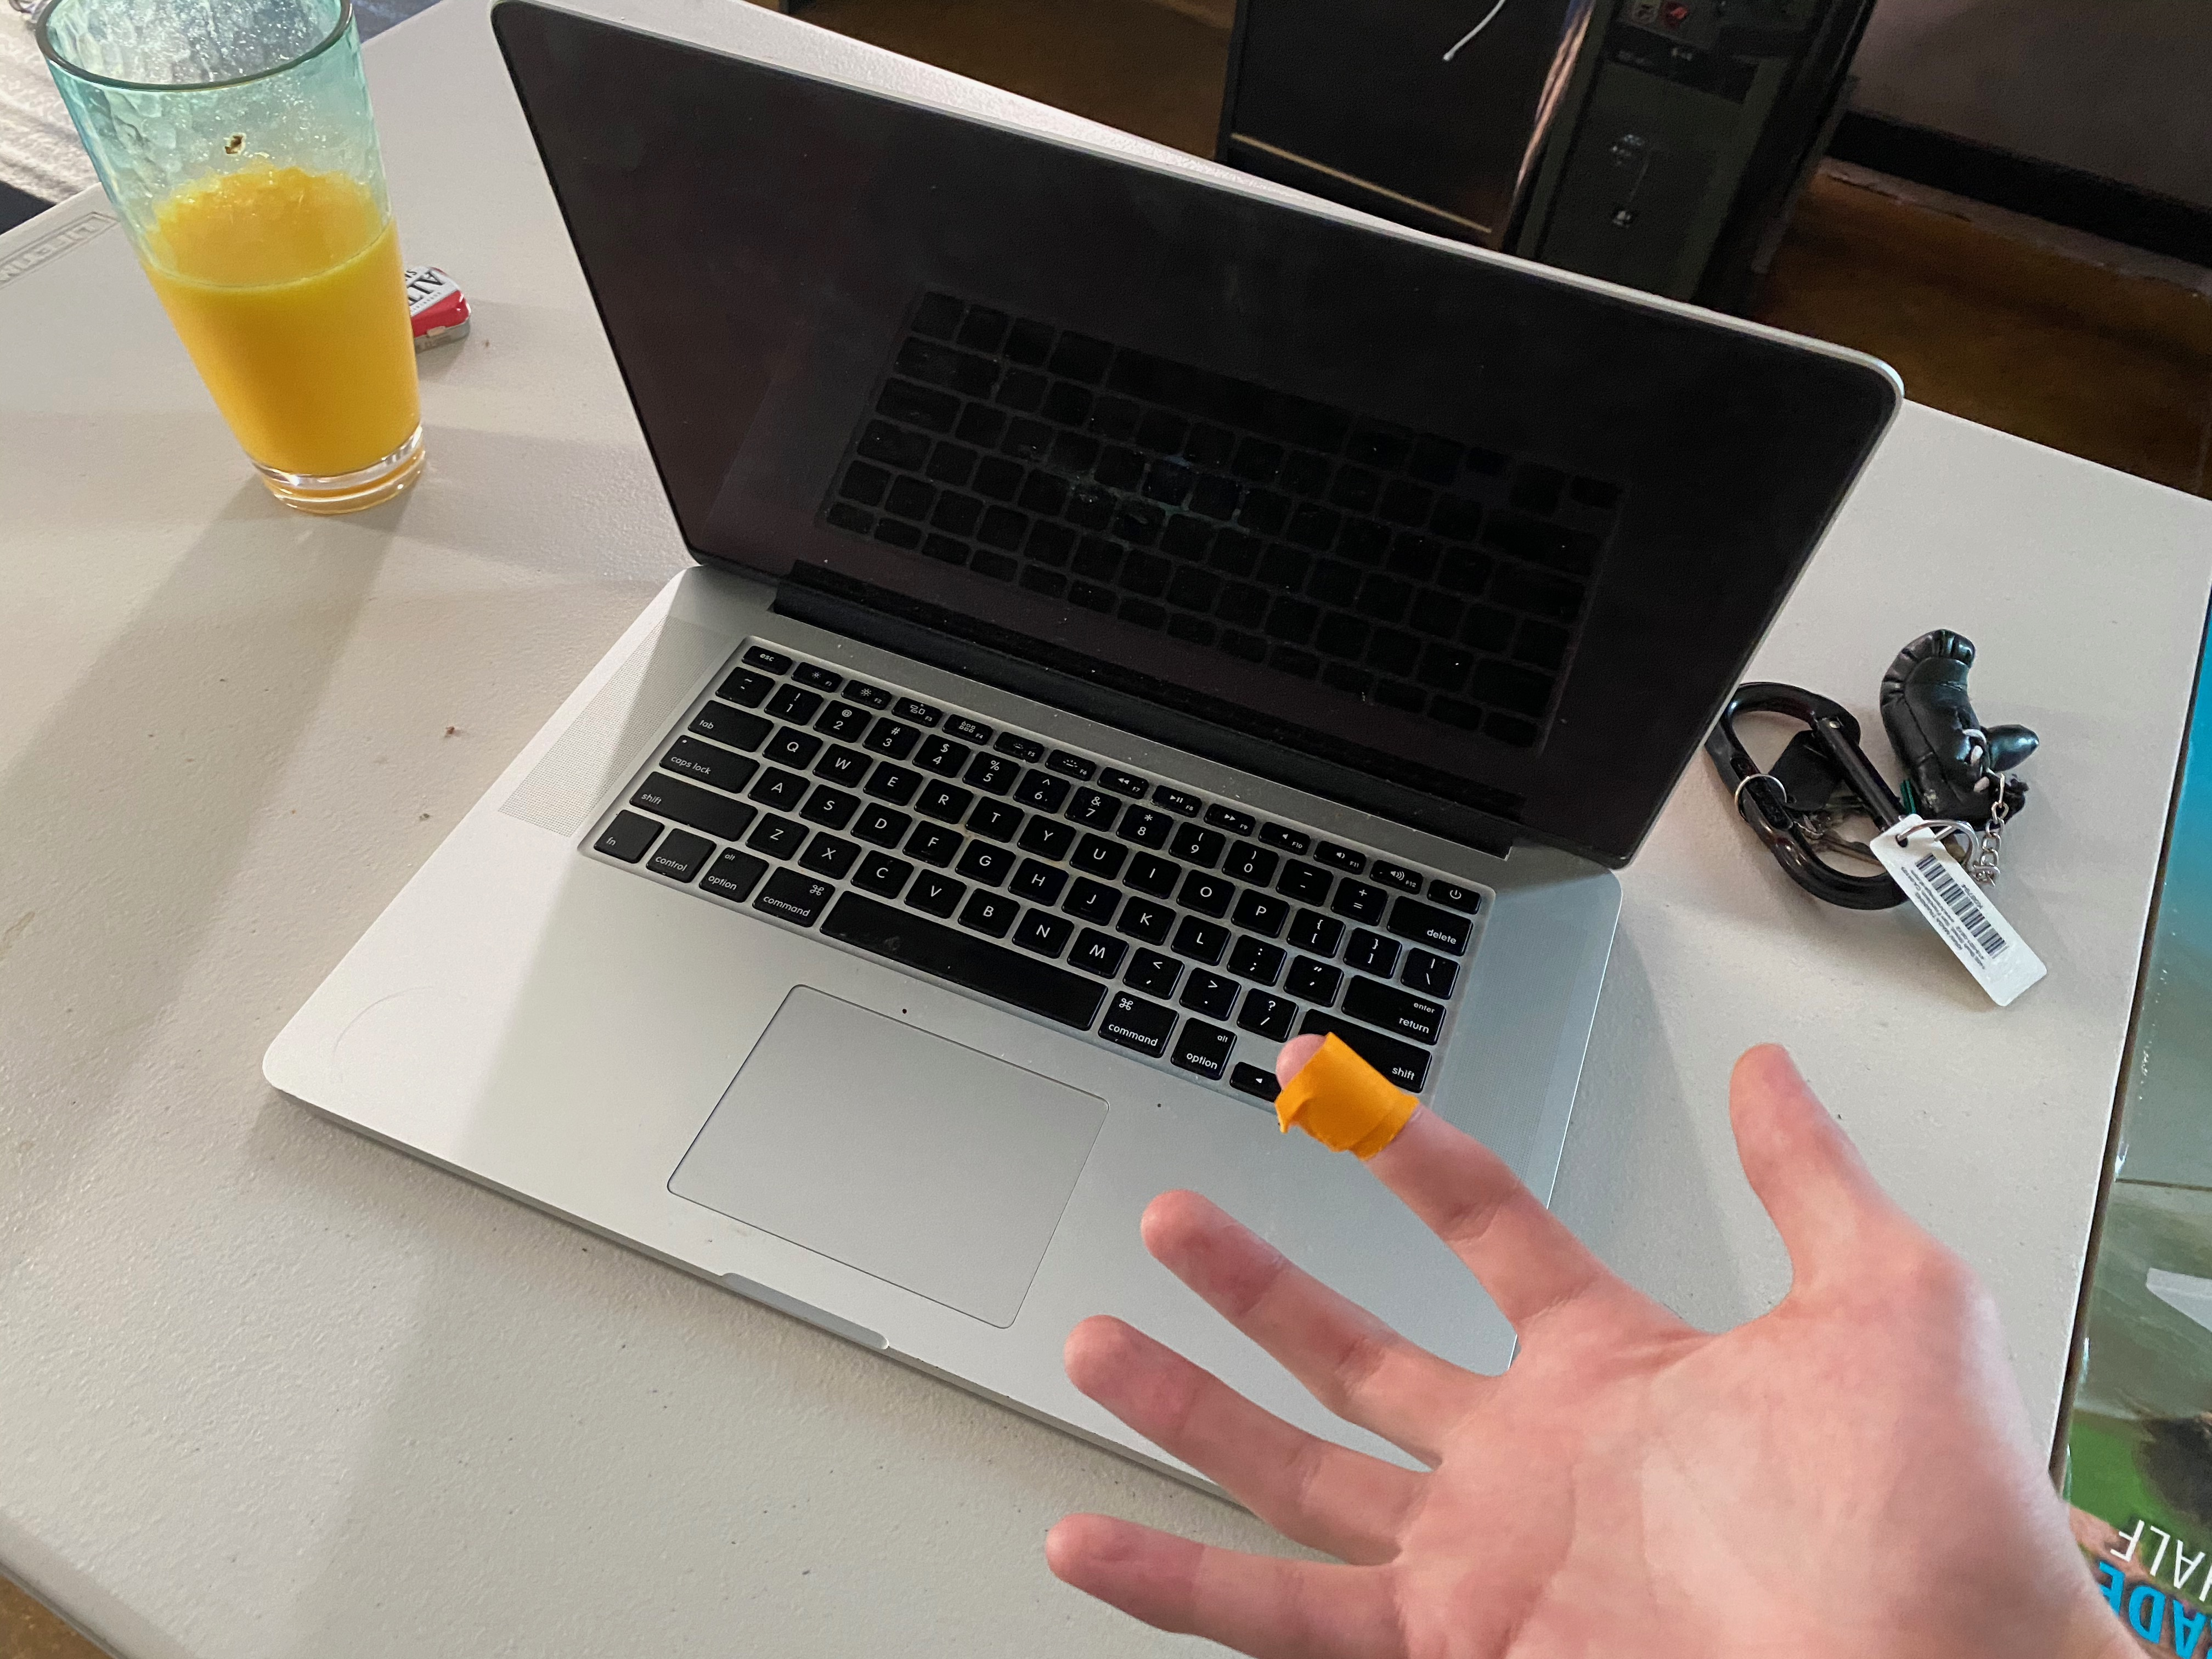fingertip: (1240, 1018, 1486, 1213)
